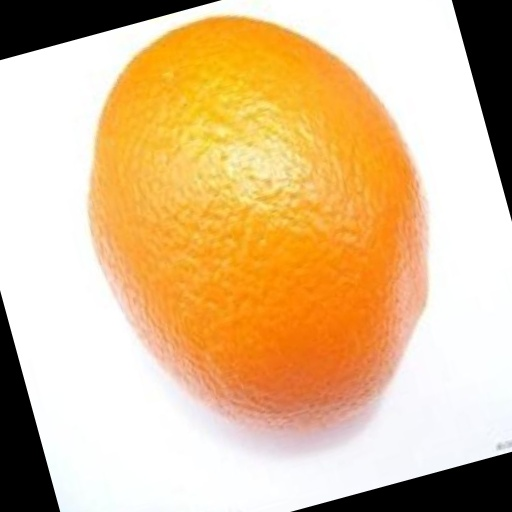fruit: (12, 127, 212, 455)
